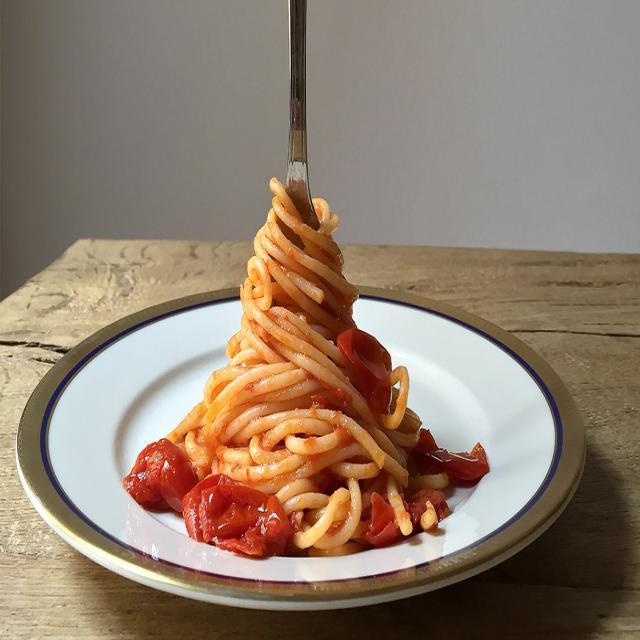Oil pasta: (111, 110, 576, 588)
